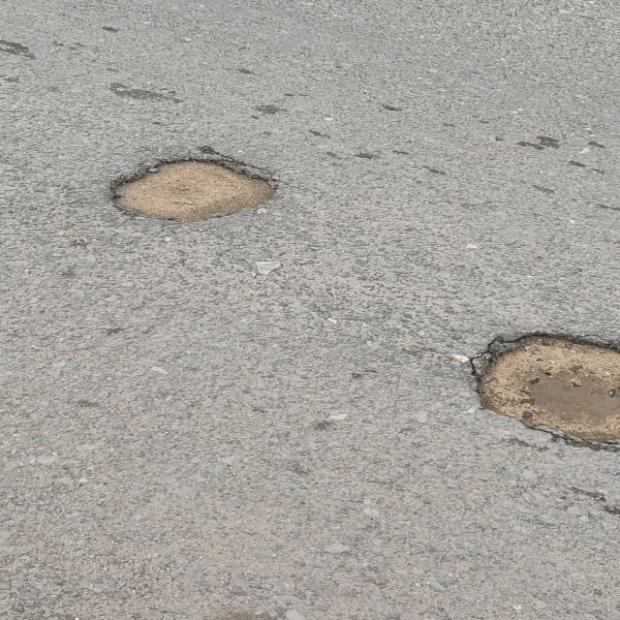lubang: (471, 335, 619, 447), (111, 148, 277, 221)
